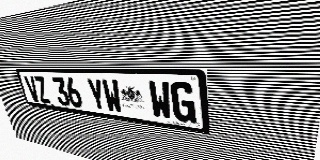3: (52, 77, 71, 107)
6: (63, 77, 84, 108)
G: (170, 81, 196, 124)
V: (24, 76, 41, 102)
W: (148, 80, 173, 120), (101, 79, 123, 114)
Y: (86, 78, 107, 111)
Z: (33, 76, 51, 104)
